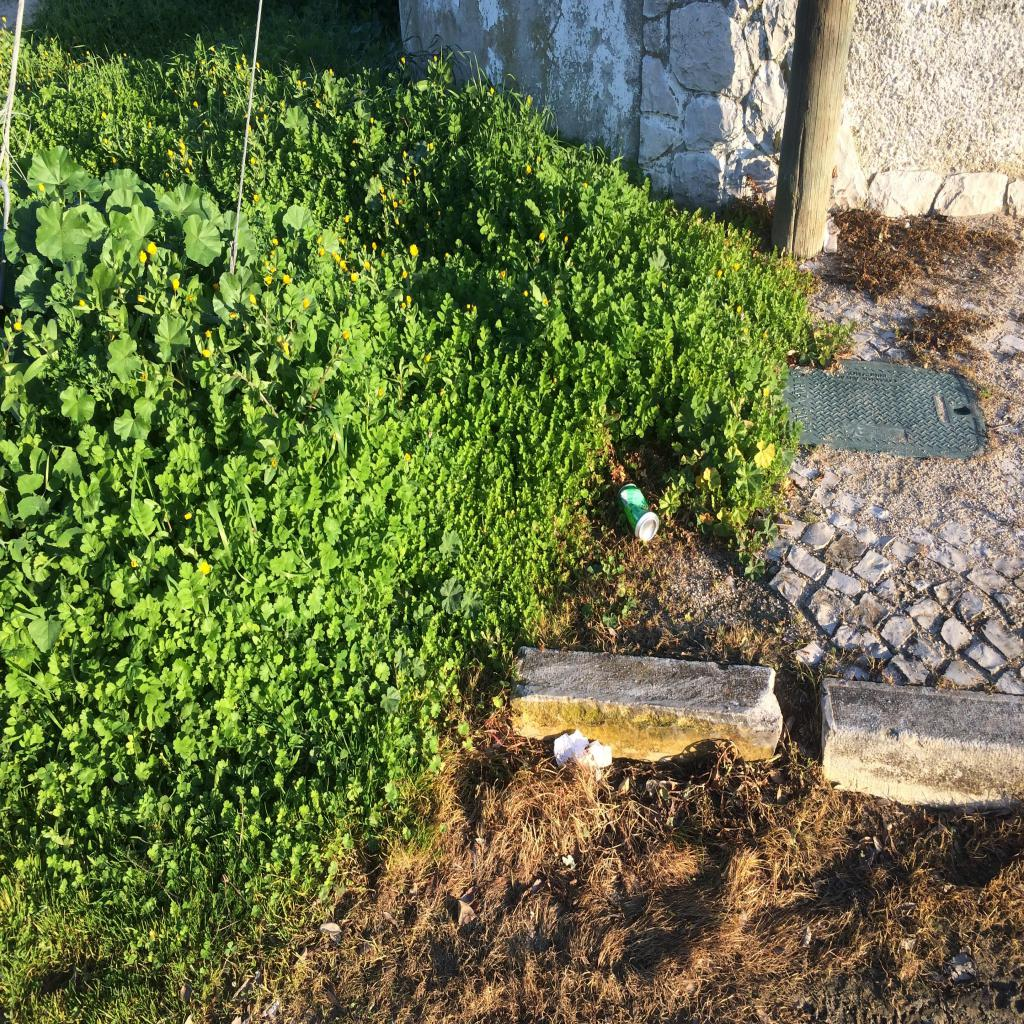Drink can: (617, 484, 659, 540)
Unlabeled litter: (554, 729, 612, 779)
